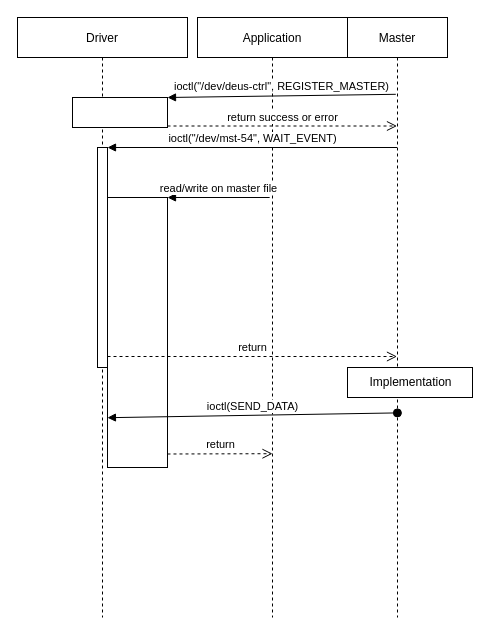
This 490x635 diagram has some shape labels left out. Here are the shapes that lost their labels. From the top down, the centre of each, then its label:
the point at 120,112: create device file
the point at 137,332: file fops handling
